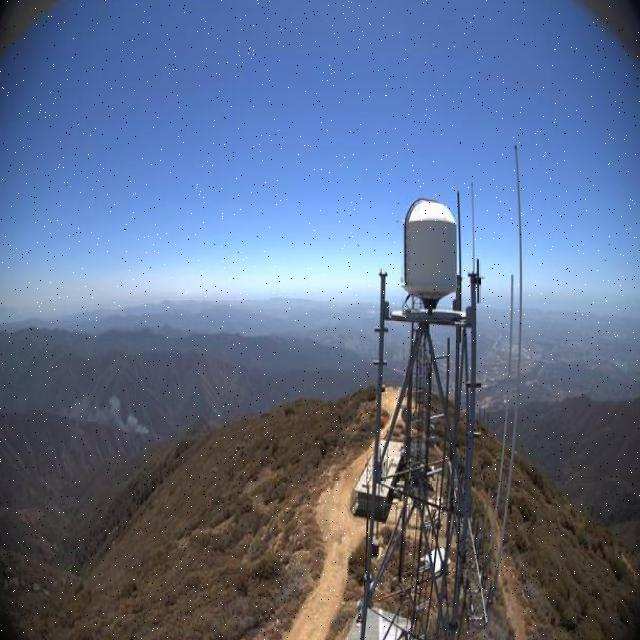smoke: (18, 374, 163, 445)
